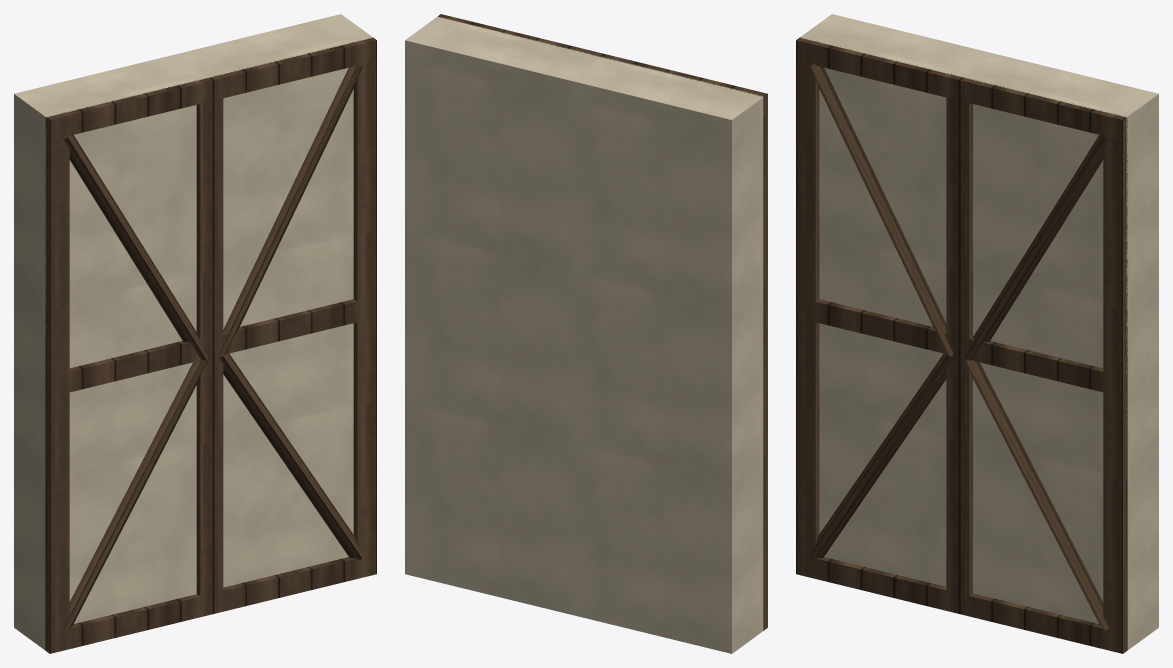
File: Wall_Plaster_WoodGrid_LOD1.gltf
The picture shows the model from 3 angles, left to right: view 1: azimuth 30°, elevation 25°; view 2: azimuth 150°, elevation 25°; view 3: azimuth 330°, elevation 25°; orthographic projection.
Visible parts, largest first — view 1: Wall_Plaster_WoodGrid_LOD1; view 2: Wall_Plaster_WoodGrid_LOD1; view 3: Wall_Plaster_WoodGrid_LOD1.
Part boxes in pixels (<box>): Wall_Plaster_WoodGrid_LOD1: <box>14,14,376,653</box>; Wall_Plaster_WoodGrid_LOD1: <box>405,14,767,653</box>; Wall_Plaster_WoodGrid_LOD1: <box>796,14,1158,653</box>.
Size of the model in its own units: 2 by 3.12 by 0.4.
Materials: 2 (2 with a texture image).
